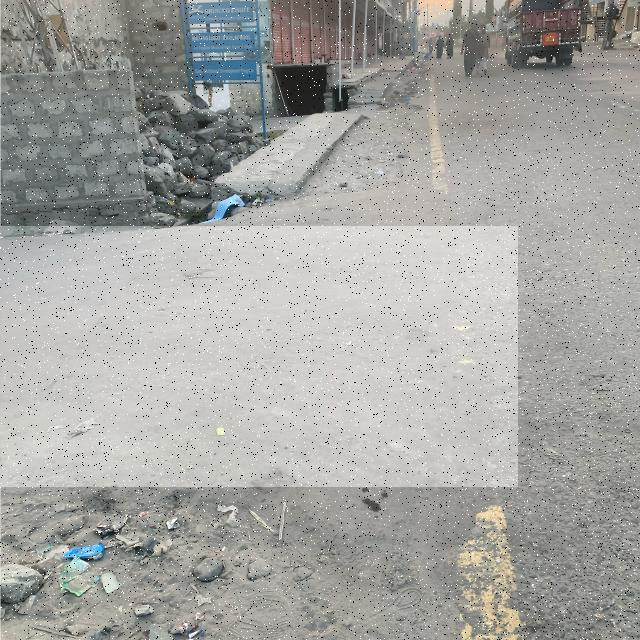left: (1, 226, 518, 487)
